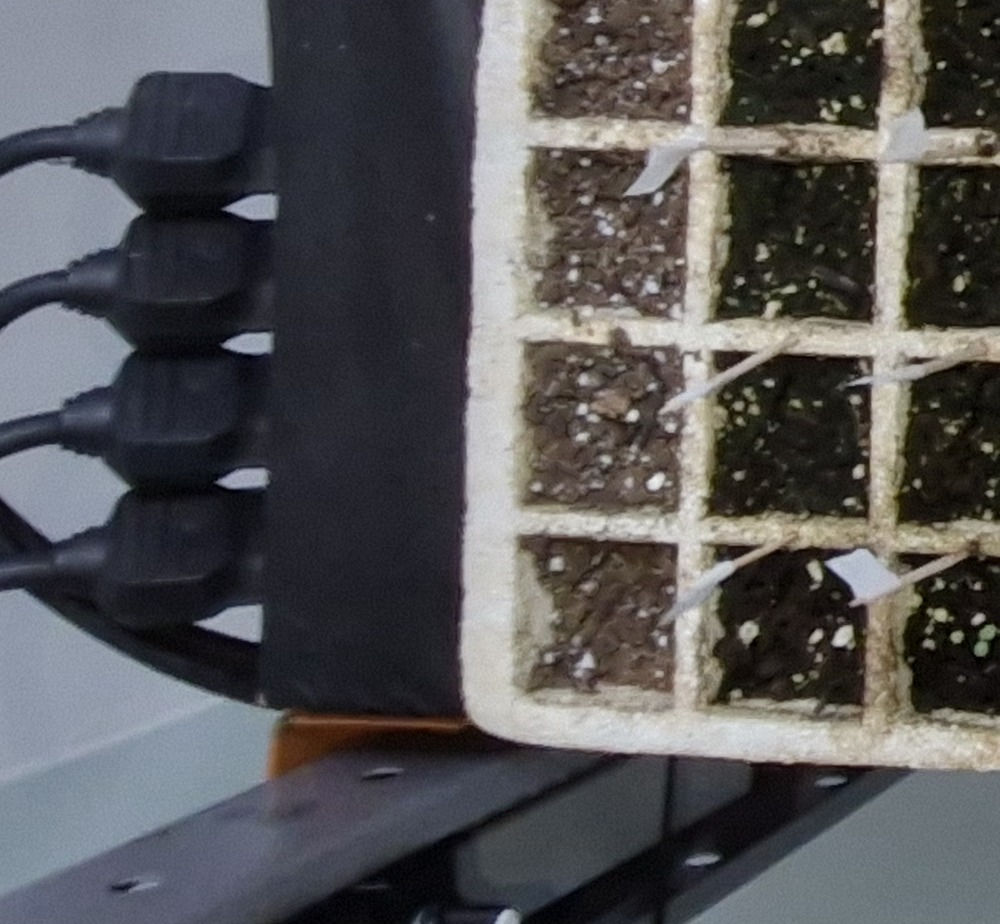Folha: (973, 643, 988, 655), (981, 625, 995, 637)
Germinacao: (974, 623, 996, 655)
